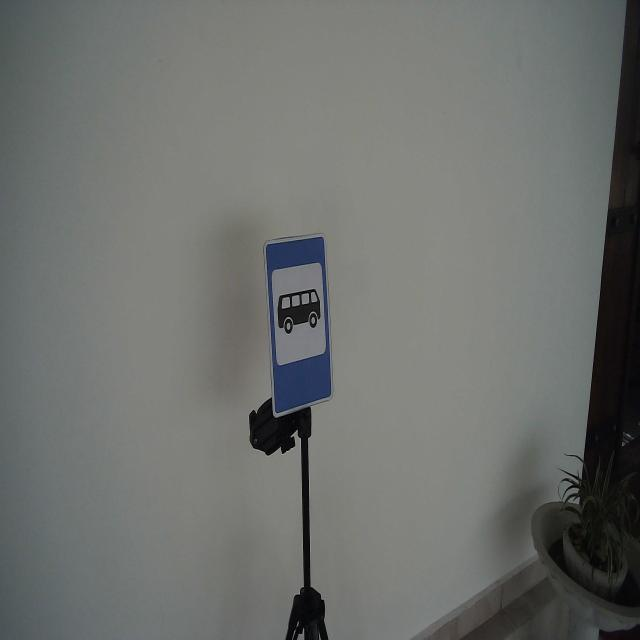bus_stop: (262, 231, 334, 420)
